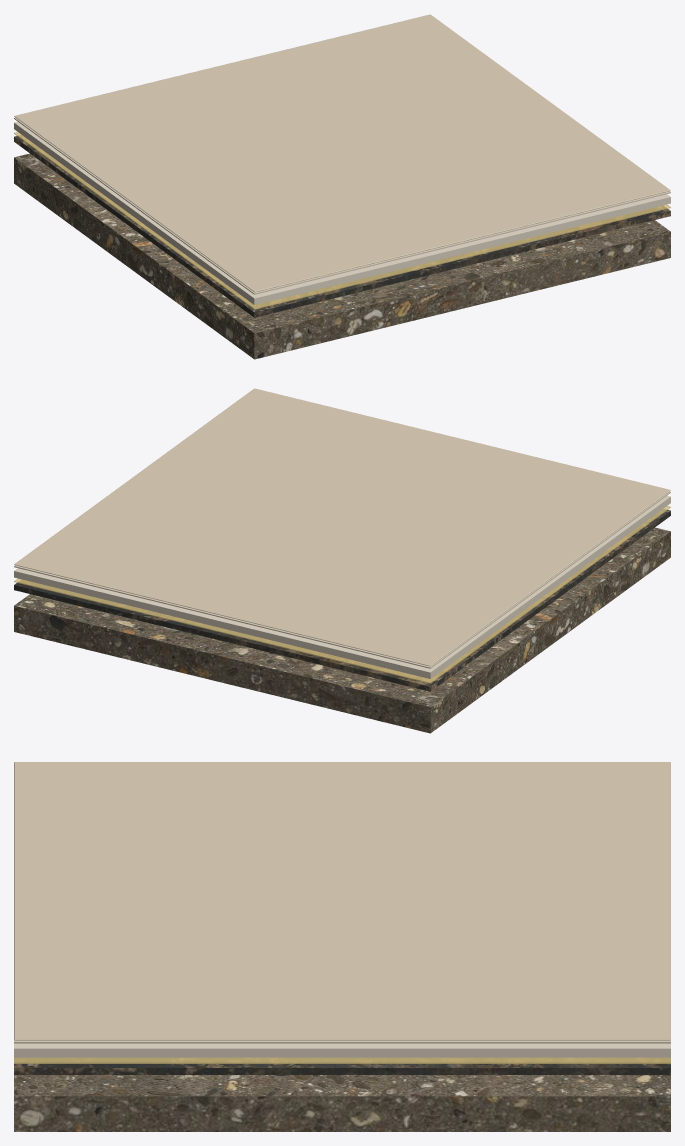
Rendered from plate.v4.glb.
3 views of the same model, one above another, from view 1: azimuth 30°, elevation 25°; view 2: azimuth 150°, elevation 25°; view 3: azimuth 270°, elevation 25° (orthographic). The views are drawn at different scales.
Parts seen in each view (by area): view 1: LYR_5_finish_b, LYR_0_concrete.001, LYR_1_pour, LYR_3_body, LYR_2_primer.004, LYR_4_finish_a; view 2: LYR_5_finish_b, LYR_0_concrete.001, LYR_1_pour, LYR_3_body, LYR_2_primer.004, LYR_4_finish_a; view 3: LYR_5_finish_b, LYR_0_concrete.001, LYR_1_pour, LYR_3_body, LYR_2_primer.004, LYR_4_finish_a.
Boxes of the visible parts, x1,y1,x2,y2 form: LYR_5_finish_b: (14,14,670,292); LYR_0_concrete.001: (14,153,670,359); LYR_1_pour: (14,135,670,317); LYR_3_body: (14,121,670,304); LYR_2_primer.004: (14,132,670,309); LYR_4_finish_a: (14,117,670,294); LYR_5_finish_b: (14,388,670,666); LYR_0_concrete.001: (14,527,670,733); LYR_1_pour: (14,509,670,691); LYR_3_body: (14,495,670,678); LYR_2_primer.004: (14,506,670,683); LYR_4_finish_a: (14,491,670,668); LYR_5_finish_b: (14,762,670,1040); LYR_0_concrete.001: (14,1075,670,1131); LYR_1_pour: (14,1058,670,1074); LYR_3_body: (14,1043,670,1057); LYR_2_primer.004: (14,1057,670,1063); LYR_4_finish_a: (14,1040,670,1043).
Size of the model in its own units: 0.15 by 0.0233 by 0.15.
Materials: 6 (2 with a texture image).
